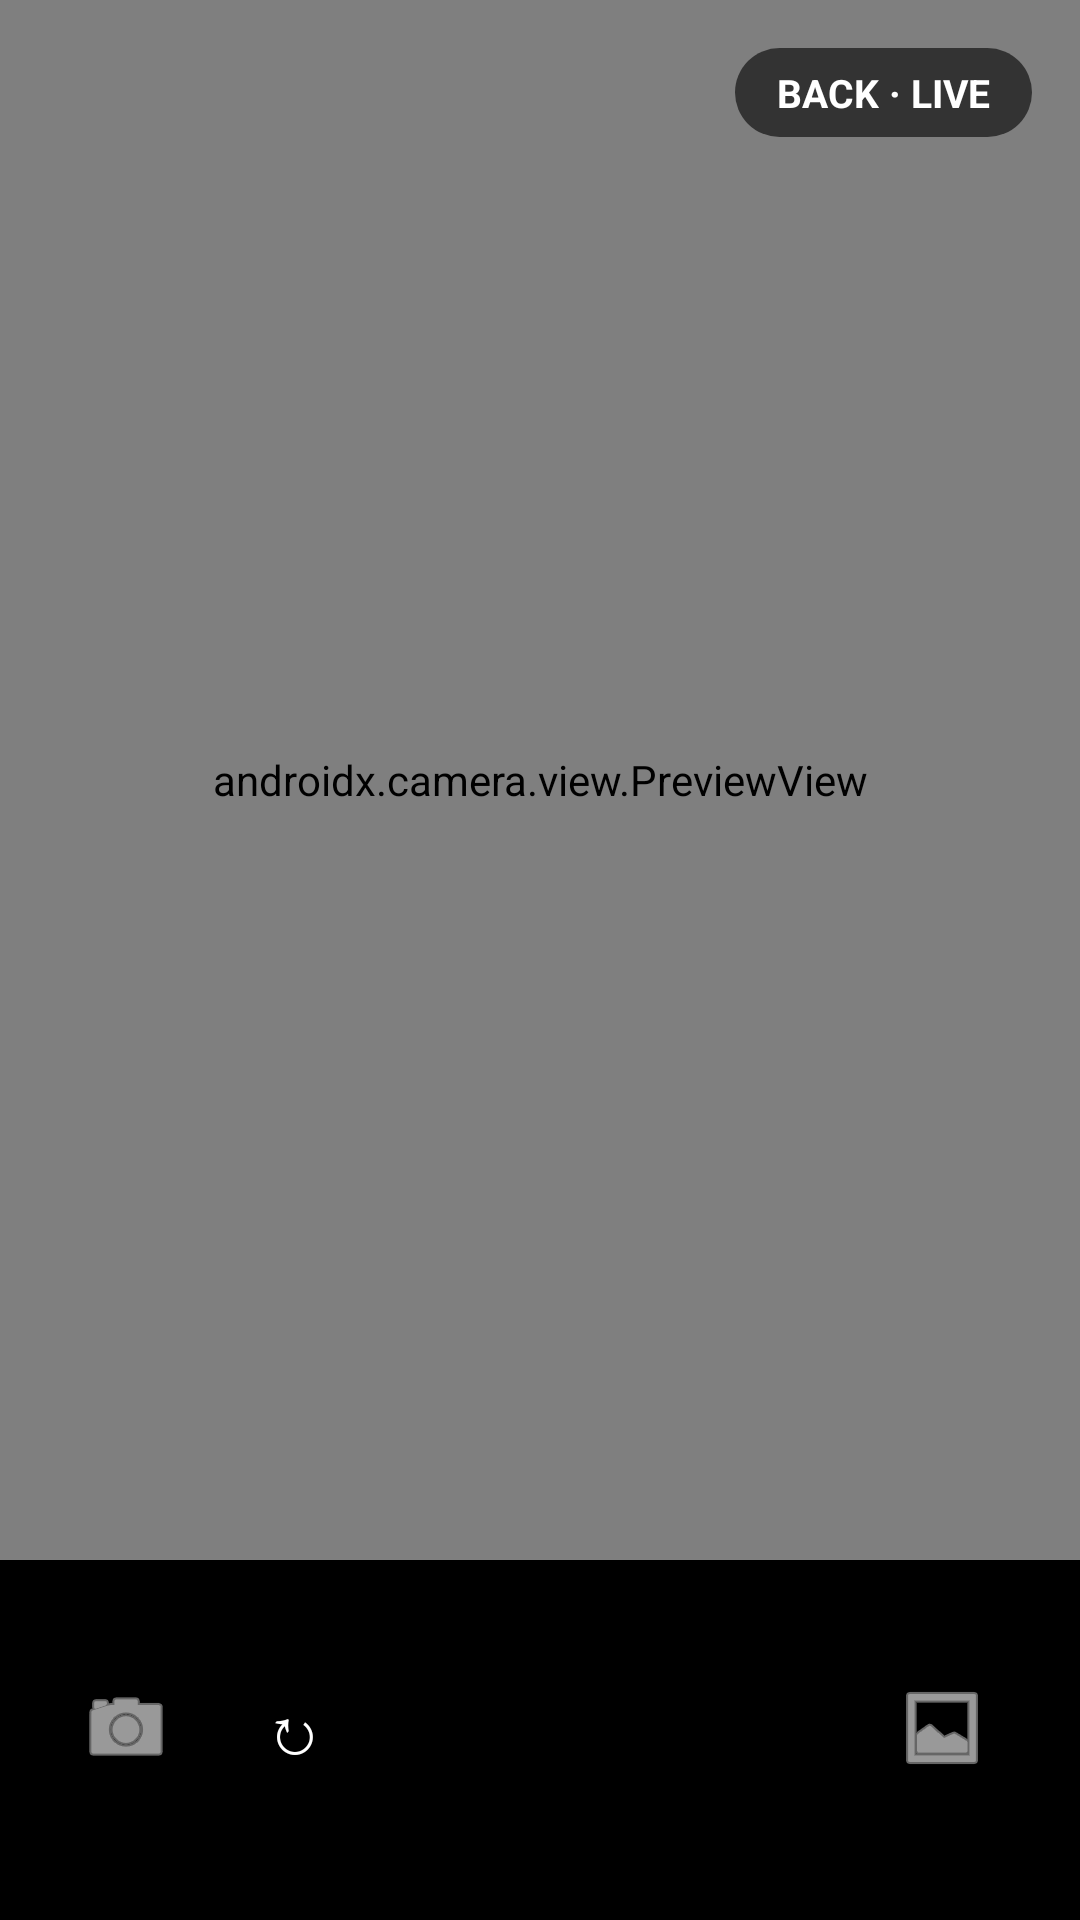

Where to tap for icons on this 1080px x 1920px app screen, as [x,y]:
Choose image or video: [942,1728]
Show live camera: [126,1726]
